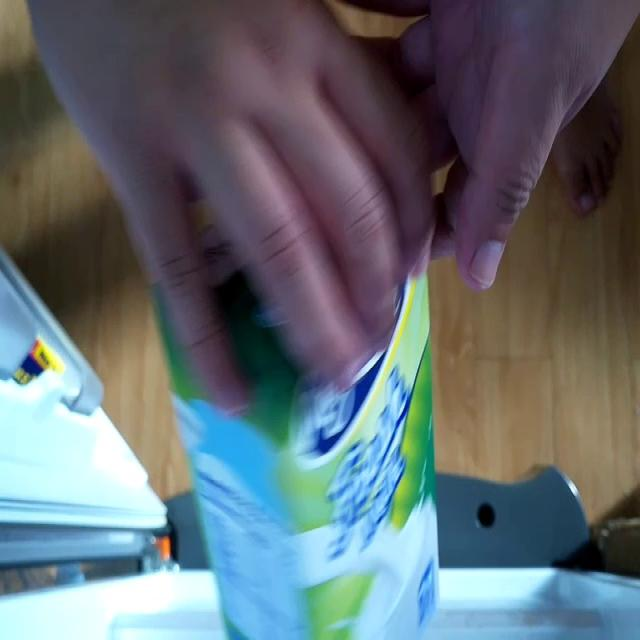milk: (158, 124, 441, 640)
